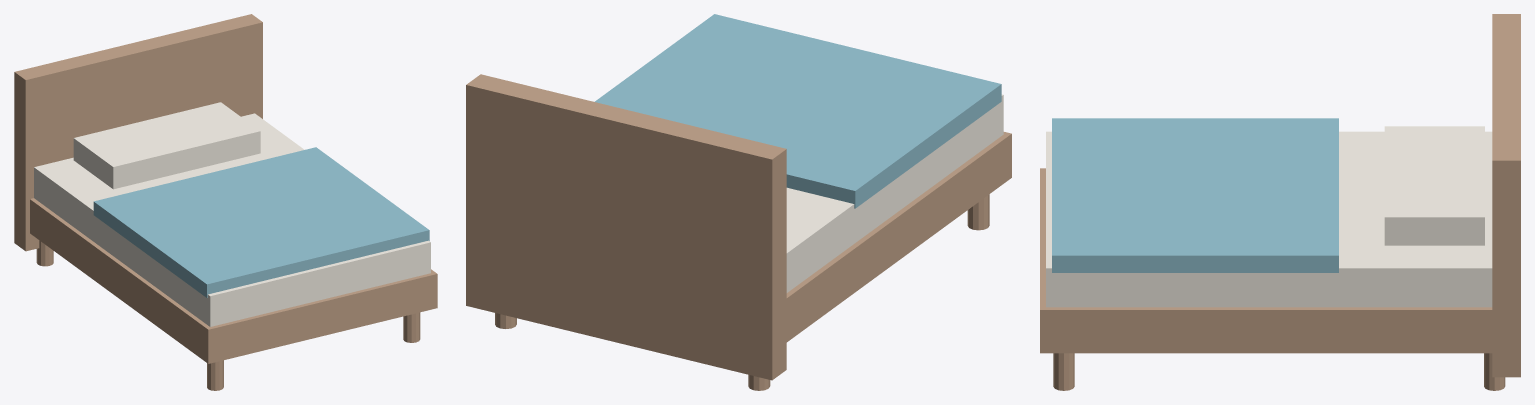
The model's file is bed.glb.
3 renders of one model, left to right at view 1: azimuth 30°, elevation 25°; view 2: azimuth 150°, elevation 25°; view 3: azimuth 270°, elevation 25°, orthographic. The views are drawn at different scales.
Visible parts, largest first — view 1: bed_006, bed_007, bed_005, bed_004, bed_008, bed_002, bed_000; view 2: bed_007, bed_006, bed_004, bed_005, bed_000; view 3: bed_006, bed_005, bed_004, bed_008, bed_007, bed_002, bed_003.
Boxes of the visible parts, x1=… form: bed_006: x1=93, y1=147, x2=429, y2=297; bed_007: x1=14, y1=14, x2=262, y2=251; bed_005: x1=34, y1=113, x2=430, y2=326; bed_004: x1=30, y1=198, x2=437, y2=363; bed_008: x1=73, y1=102, x2=260, y2=189; bed_002: x1=403, y1=312, x2=420, y2=342; bed_000: x1=207, y1=360, x2=223, y2=390; bed_007: x1=466, y1=74, x2=786, y2=380; bed_006: x1=594, y1=14, x2=1001, y2=208; bed_004: x1=786, y1=132, x2=1011, y2=342; bed_005: x1=786, y1=94, x2=1003, y2=292; bed_000: x1=967, y1=194, x2=989, y2=230; bed_006: x1=1052, y1=118, x2=1338, y2=272; bed_005: x1=1046, y1=131, x2=1492, y2=307; bed_004: x1=1040, y1=168, x2=1492, y2=353; bed_008: x1=1384, y1=126, x2=1484, y2=245; bed_007: x1=1492, y1=14, x2=1520, y2=377; bed_002: x1=1053, y1=353, x2=1074, y2=390; bed_003: x1=1484, y1=353, x2=1505, y2=390.
Bounding box in the file's own units: 1.45 × 1.1 × 2.01.
